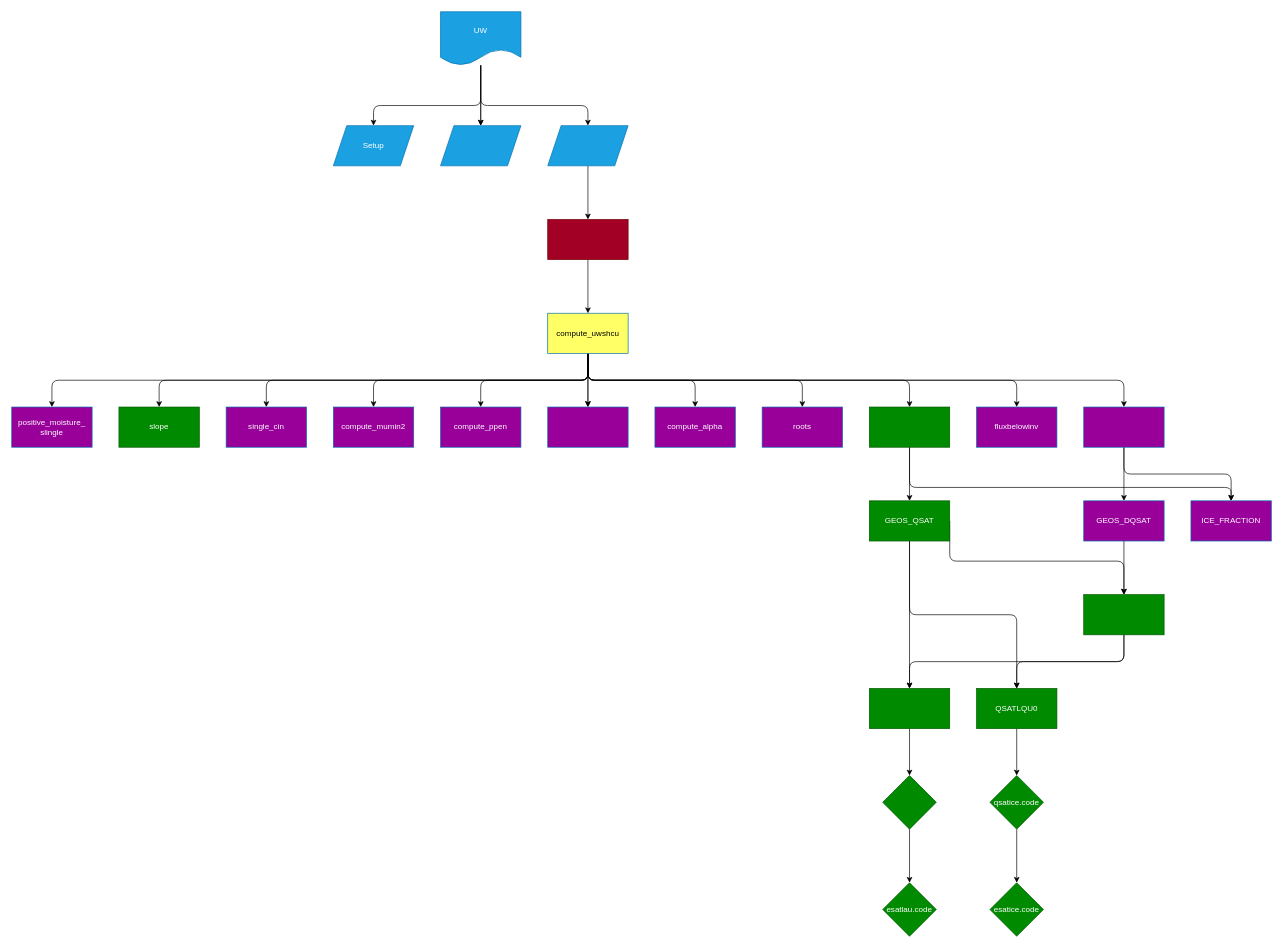
Some shapes in this 1283 by 948 pixel diagram are drawn without their labels. Each missing label, with the centre of its shape:
"compute_ uwshcu_inv" goes at point 587,239.
"conden" goes at point 909,426.
"ESINIT" goes at point 1123,614.
"getbuoy" goes at point 587,426.
"Init" goes at point 480,145.
"QSATICE0" goes at point 909,708.
"qsatlqu.code" goes at point 909,802.
"qsinvert" goes at point 1123,426.
"Run" goes at point 587,145.
